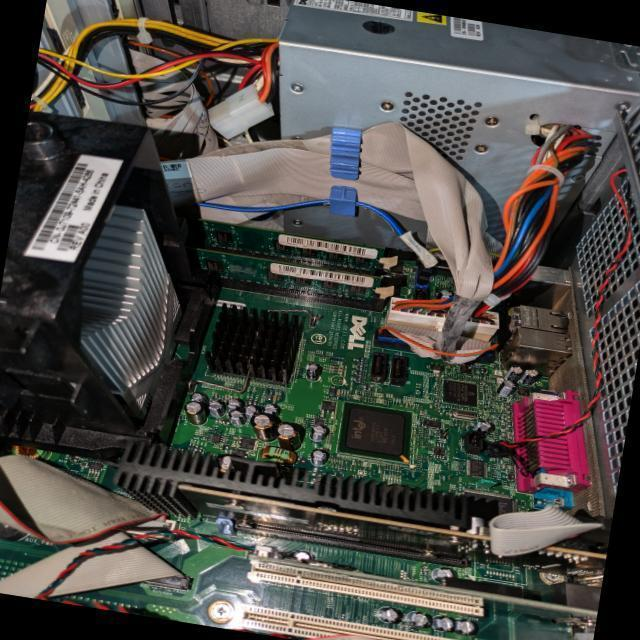CPU_Fan: (0, 186, 184, 427)
Mainboard: (0, 187, 640, 640)
PSU: (250, 0, 640, 277)
RAM: (181, 217, 387, 274), (182, 246, 380, 304)
